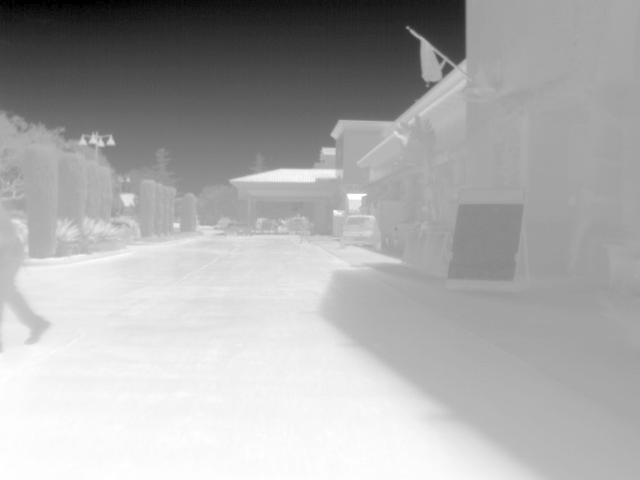car: (336, 213, 384, 253), (107, 218, 137, 242), (222, 222, 252, 237), (288, 214, 308, 234), (257, 218, 280, 234)
person: (1, 208, 52, 353), (296, 221, 310, 246)
